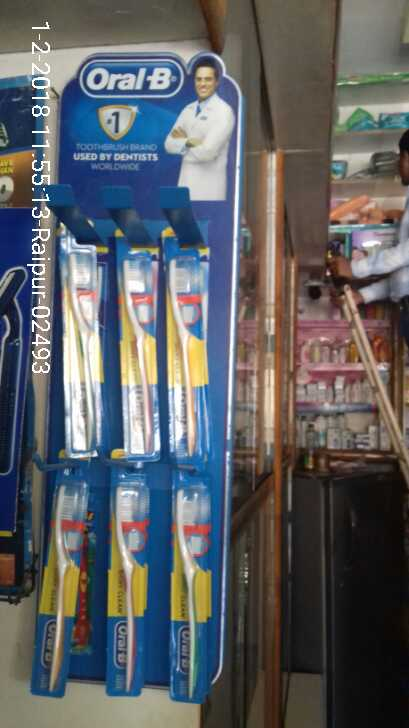oralb: (56, 238, 106, 458), (112, 239, 162, 459), (160, 243, 210, 463), (167, 475, 217, 695), (103, 473, 153, 693), (39, 475, 89, 695)
